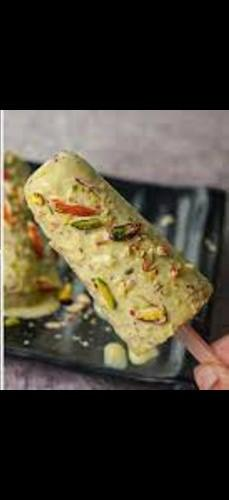Kulfi: (26, 150, 212, 355)
